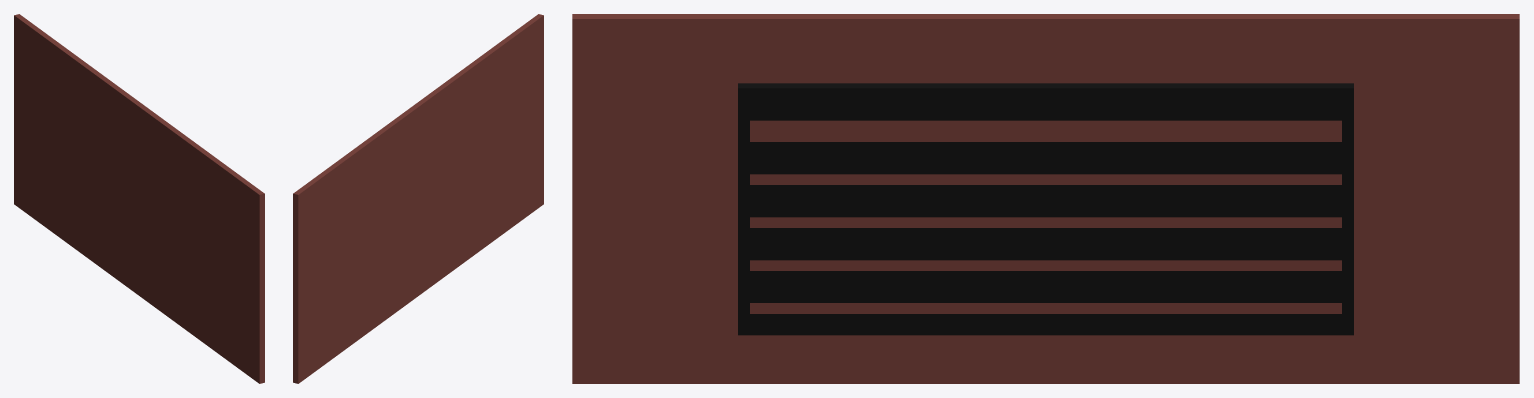
Rendered from car_transporter_front_panel.glb.
3 views of the same model, side by side, from view 1: azimuth 30°, elevation 25°; view 2: azimuth 150°, elevation 25°; view 3: azimuth 270°, elevation 25° (orthographic). The views are drawn at different scales.
Parts seen in each view (by area): view 1: body:compound; view 2: body:compound; view 3: body:compound.
Boxes of the visible parts, x1,y1,x2,y2 form: body:compound: (14, 14, 264, 383); body:compound: (293, 14, 543, 383); body:compound: (572, 14, 1519, 383).
Size of the model in its own units: 0.0625 by 1.06 by 2.5.
